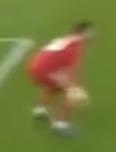goalkeeper: (20, 13, 107, 143)
